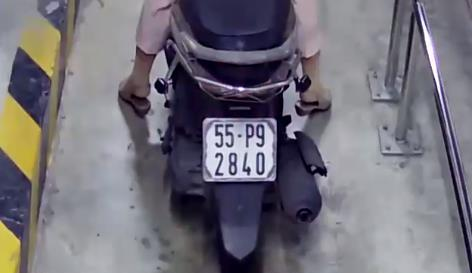lisence: (201, 117, 276, 181)
